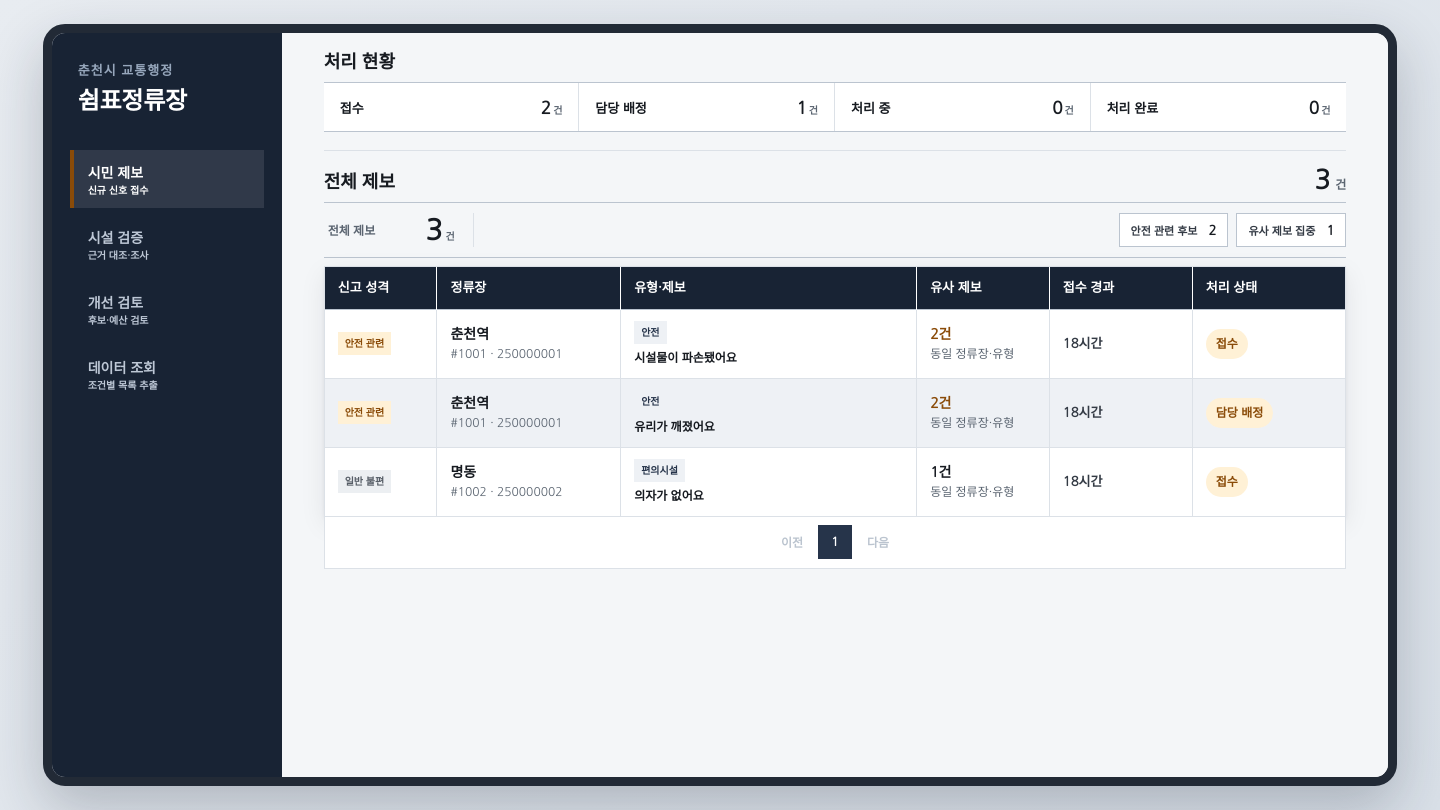
Test: <Dashboard> — (a) 탭 구조 › 안전 관련 여부와 유사 제보 집중을 요약하고 해당 업무만 필터링한다
Expected: the button "유사 제보 집중 1" is shown, [1236,213,1346,247]
Click the button "안전 관련 후보 2" at (1174, 230), box [1119,213,1228,247]
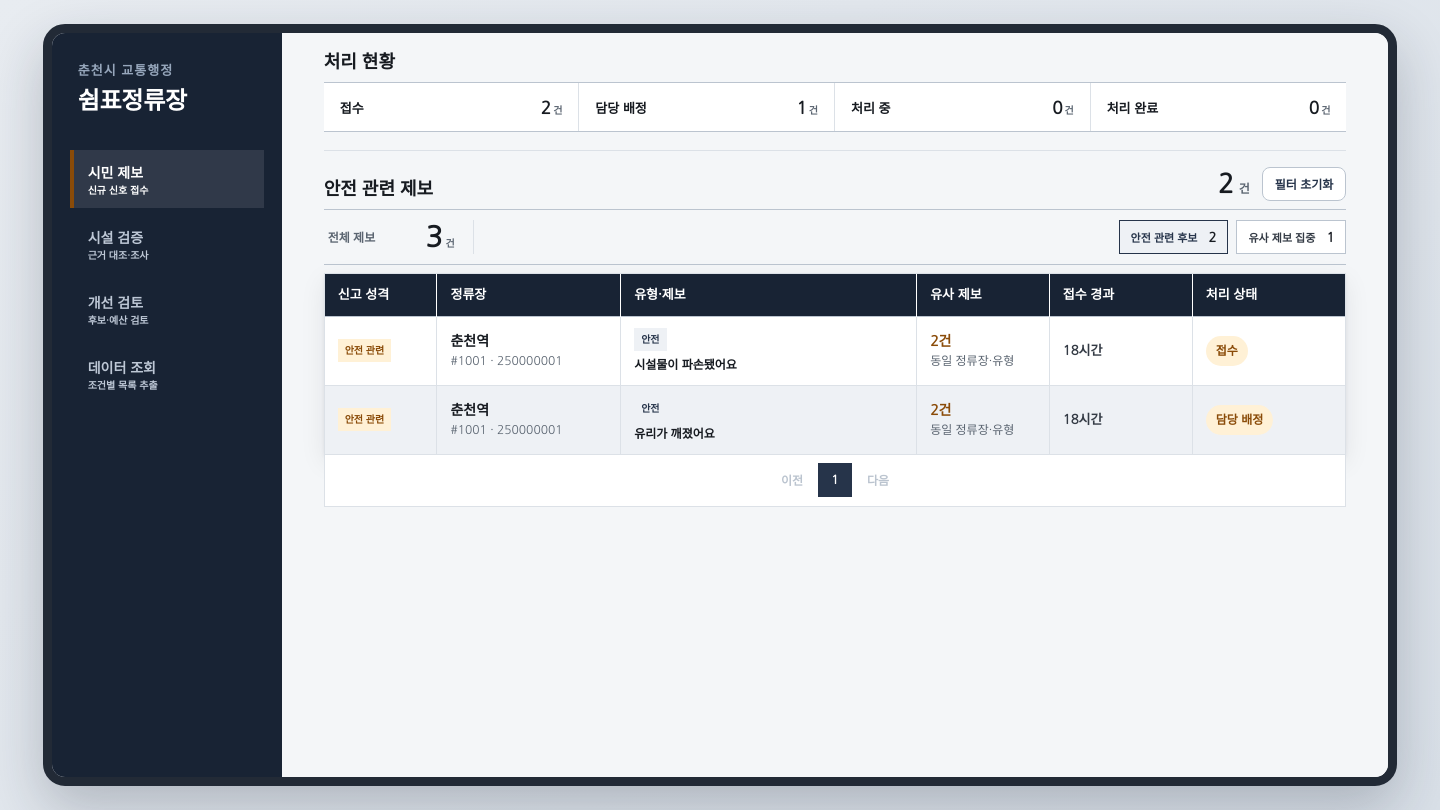
Expected: the text "시설물이 파손됐어요" is shown, [634,359,737,371]
Expected: the heading "안전 관련 제보" is shown, [324,178,433,201]
Expected: the text "의자가 없어요" is gone
